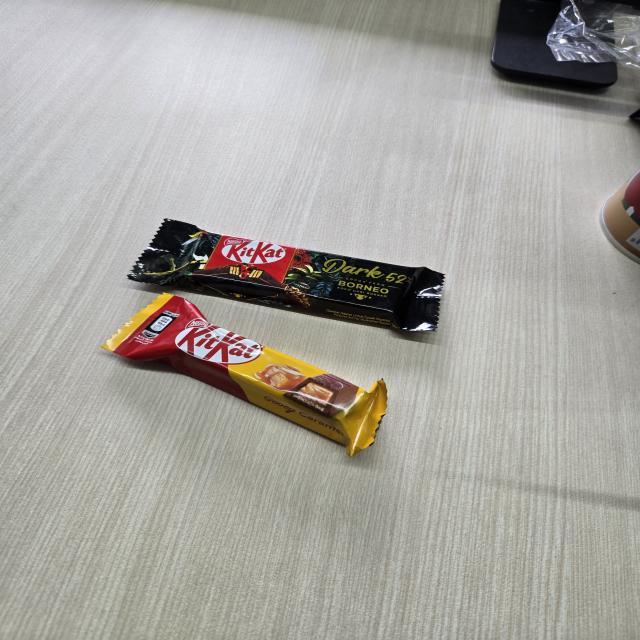chocolate-bar: (106, 289, 412, 455), (126, 210, 456, 339)
